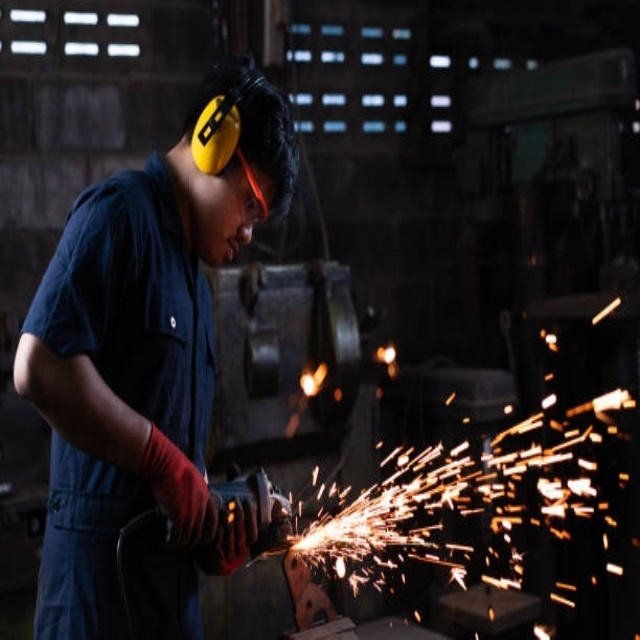Gafas: (235, 144, 270, 225)
Guantes: (132, 419, 225, 557)
Sin_mascara: (212, 226, 253, 269)
